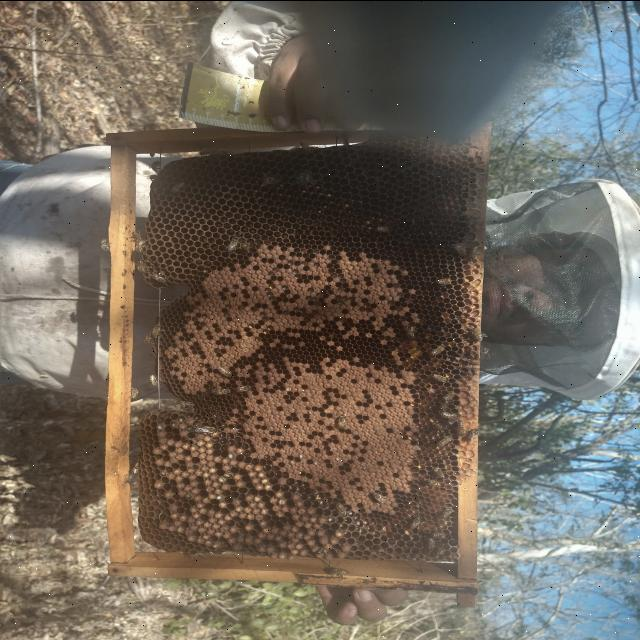cria: (153, 354, 419, 559), (164, 242, 420, 395)
marco: (136, 136, 464, 560)
